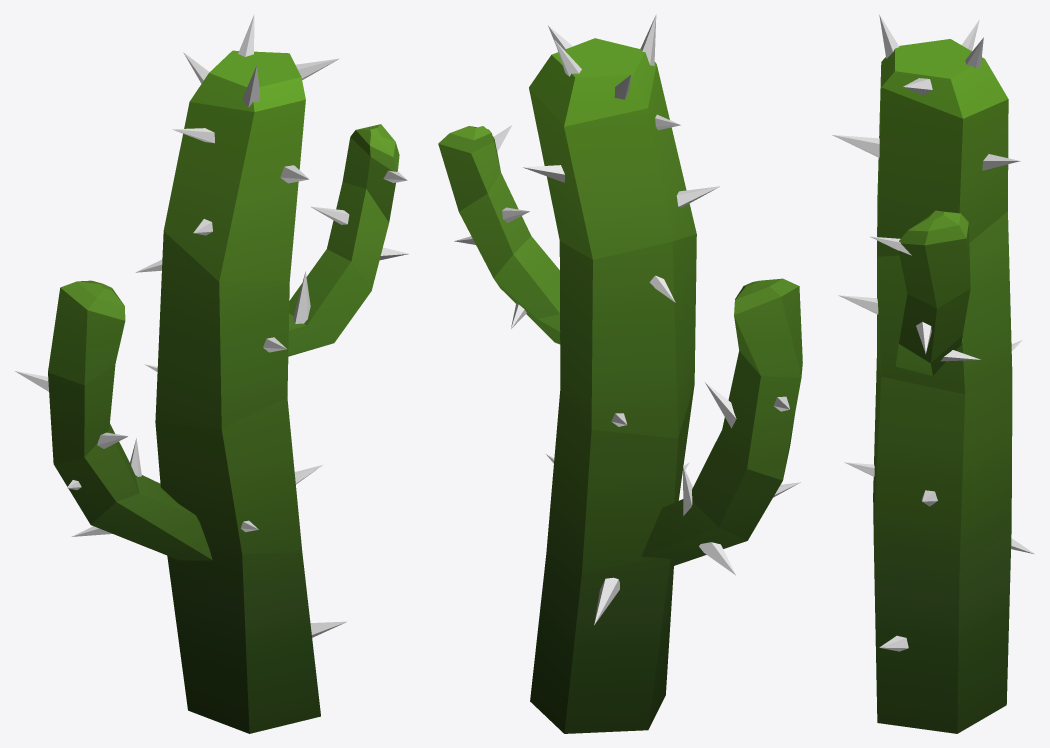
The model's file is Cactus1.fbx.
The picture shows the model from 3 angles, left to right: view 1: azimuth 30°, elevation 25°; view 2: azimuth 150°, elevation 25°; view 3: azimuth 270°, elevation 25°; orthographic projection. The views are drawn at different scales.
Visible parts, largest first — view 1: Cylinder.003; view 2: Cylinder.003; view 3: Cylinder.003.
Part boxes in pixels (x1,y1,x2,y2): Cylinder.003: (15, 14, 409, 733); Cylinder.003: (438, 14, 802, 733); Cylinder.003: (832, 14, 1034, 733).
Size of the model in its own units: 494 by 869 by 237.
